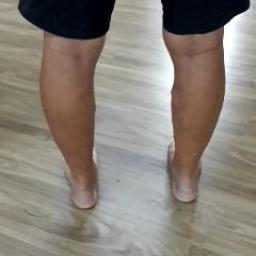Back View -Both Feet-: (39, 111, 226, 226)
